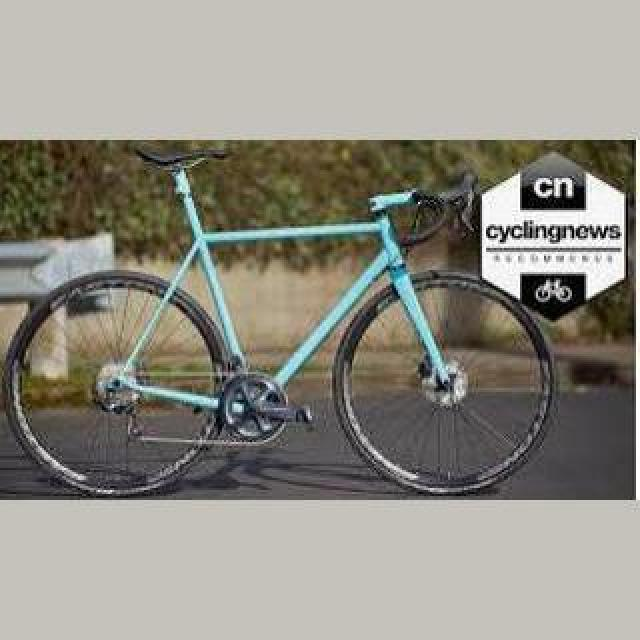Person: (2, 144, 556, 494)
